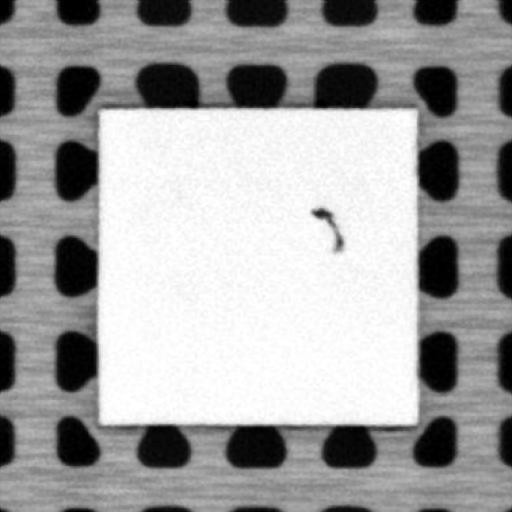DIE_INK: (309, 204, 345, 253)
